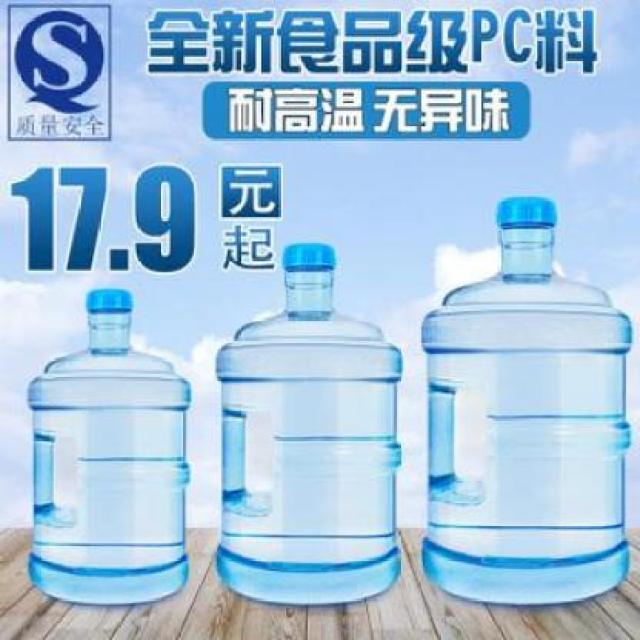coolerbottle: (417, 192, 638, 610), (212, 238, 411, 617), (20, 285, 198, 613)
